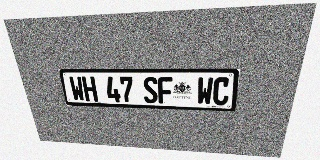4: (105, 76, 121, 102)
7: (119, 77, 135, 103)
C: (212, 77, 230, 105)
F: (157, 77, 173, 104)
H: (81, 76, 98, 102)
S: (143, 77, 158, 103)
W: (196, 77, 213, 105), (68, 76, 85, 101)
